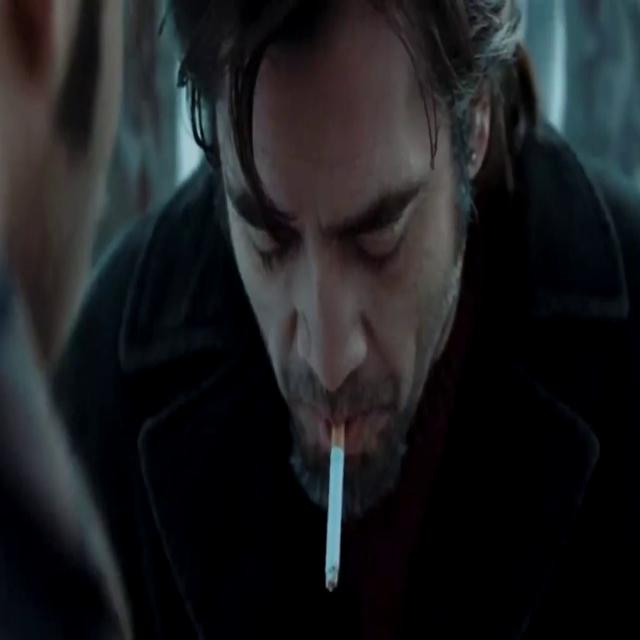Smooking: (317, 413, 352, 608)
